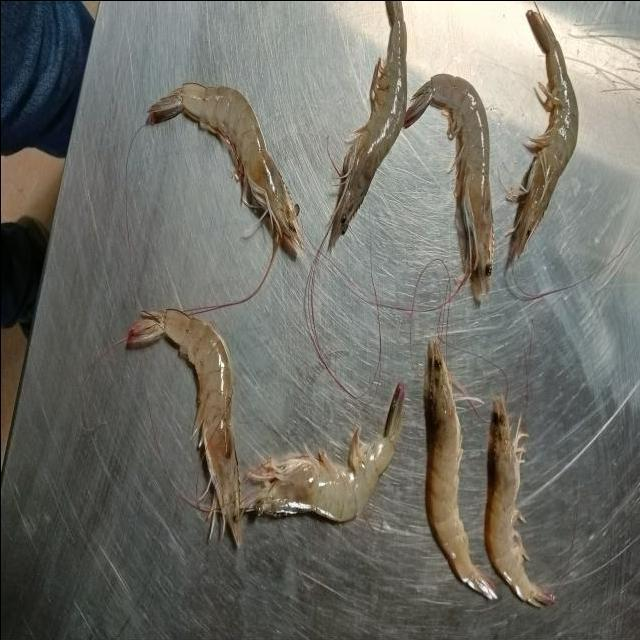shrimp: (128, 310, 240, 545), (148, 84, 300, 248), (246, 385, 402, 522), (328, 0, 408, 248), (409, 75, 492, 299), (425, 341, 495, 598), (512, 11, 578, 255), (485, 398, 552, 604)
